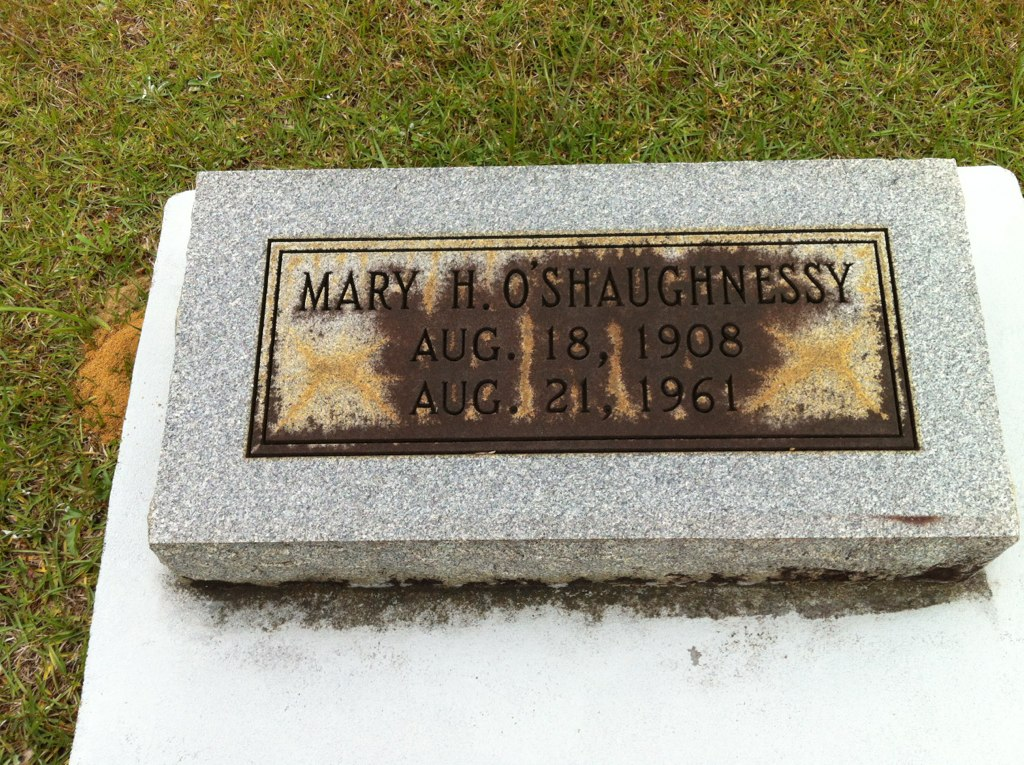flat: (146, 156, 1021, 602)
